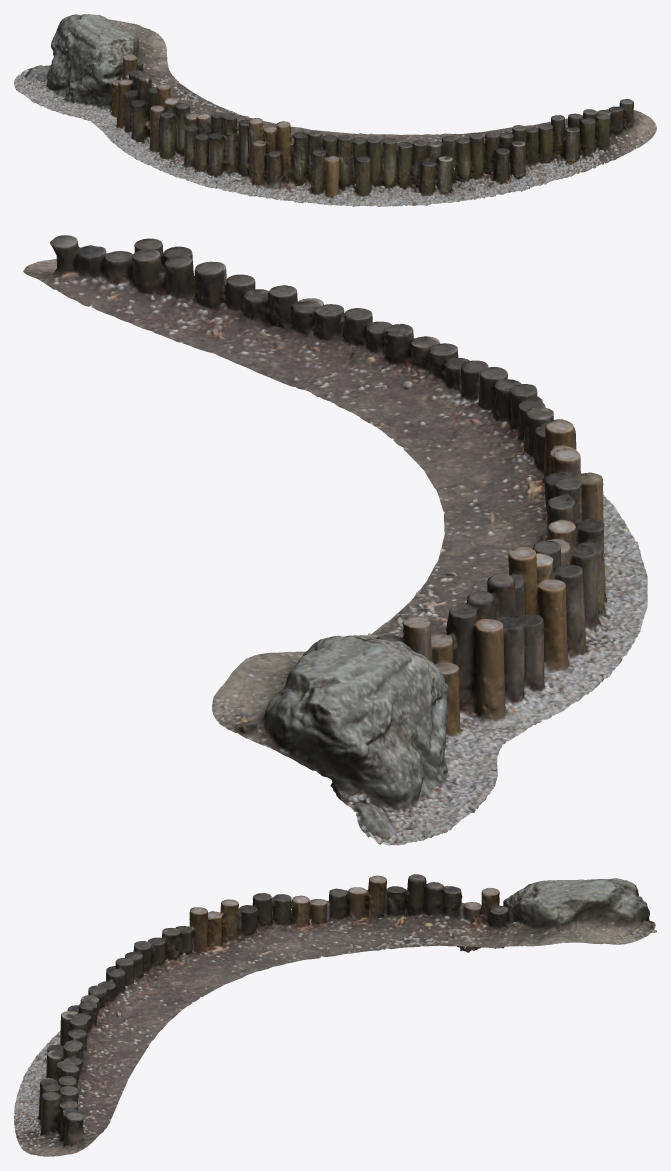
File: wooden_terrain_thing_scan.glb
3 views of the same model, one above another, from view 1: azimuth 30°, elevation 25°; view 2: azimuth 150°, elevation 25°; view 3: azimuth 270°, elevation 25° (orthographic). The views are drawn at different scales.
Visible parts, largest first — view 1: Object_2, Object_3; view 2: Object_2, Object_3; view 3: Object_2, Object_3.
Part boxes in pixels (x1,y1,x2,y2): Object_2: (14, 19, 656, 206); Object_3: (15, 14, 652, 206); Object_2: (23, 259, 647, 845); Object_3: (29, 235, 645, 845); Object_2: (14, 878, 656, 1156); Object_3: (14, 874, 647, 1154).
Size of the model in its own units: 6.18 by 0.8718 by 6.3.
1 material, 1 textured.
